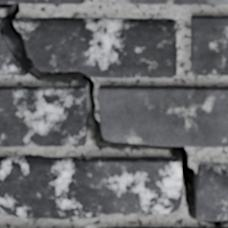brick: (0, 156, 181, 218), (99, 86, 227, 146), (0, 86, 85, 146), (191, 17, 227, 74), (197, 162, 227, 219), (107, 0, 227, 3), (0, 0, 82, 2)
broken_brick: (14, 17, 177, 79), (0, 37, 27, 76)
crack: (0, 2, 227, 227)
